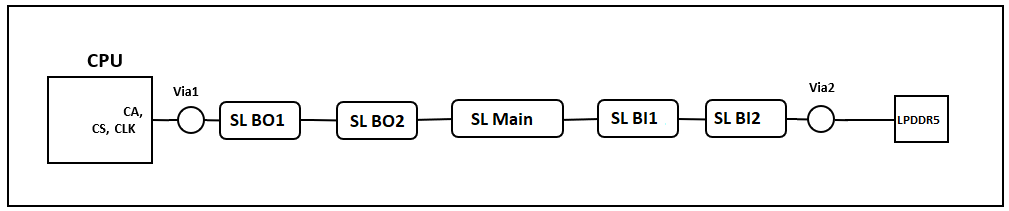circle: (173, 102, 208, 136), (803, 102, 837, 137)
oval: (443, 91, 570, 147), (213, 94, 309, 145), (331, 97, 423, 147), (592, 94, 684, 143), (702, 97, 789, 141)
rectangle: (44, 73, 159, 172), (891, 92, 952, 148)
